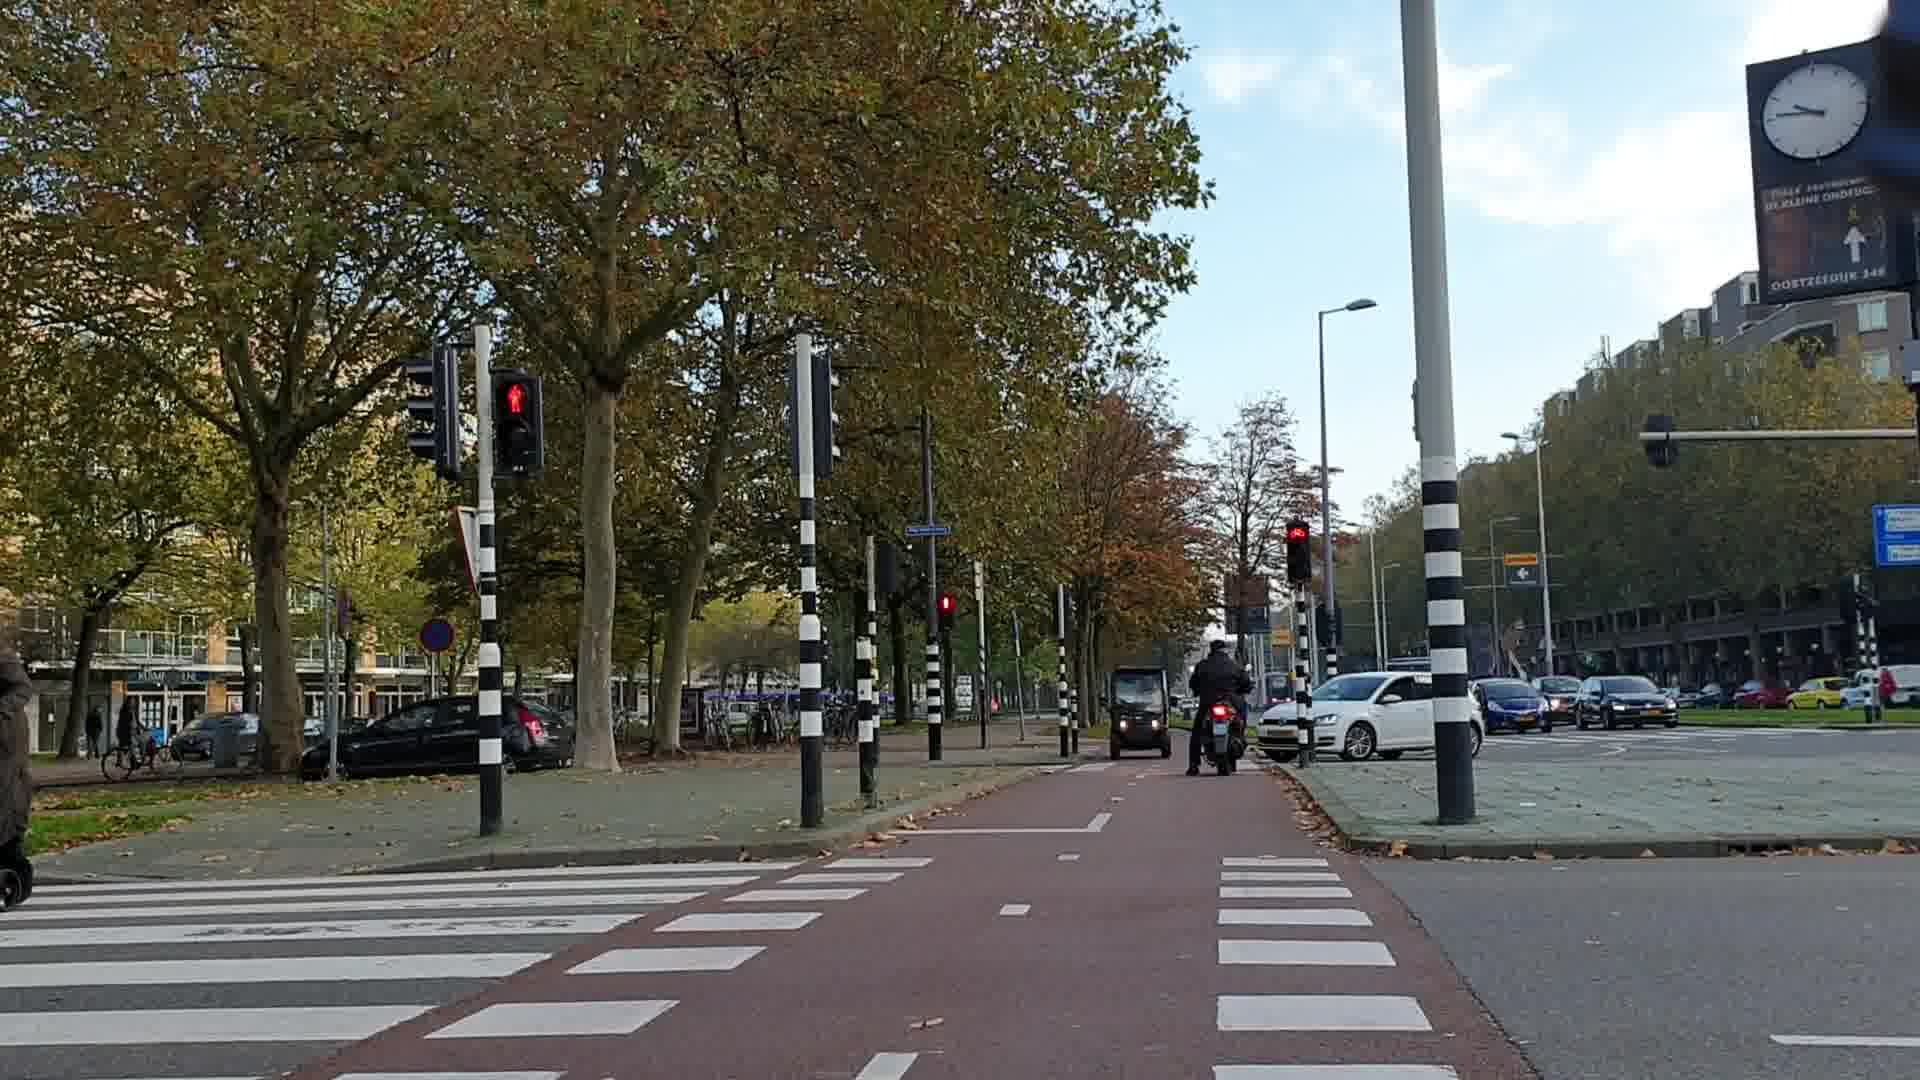car: (1261, 666, 1482, 761)
